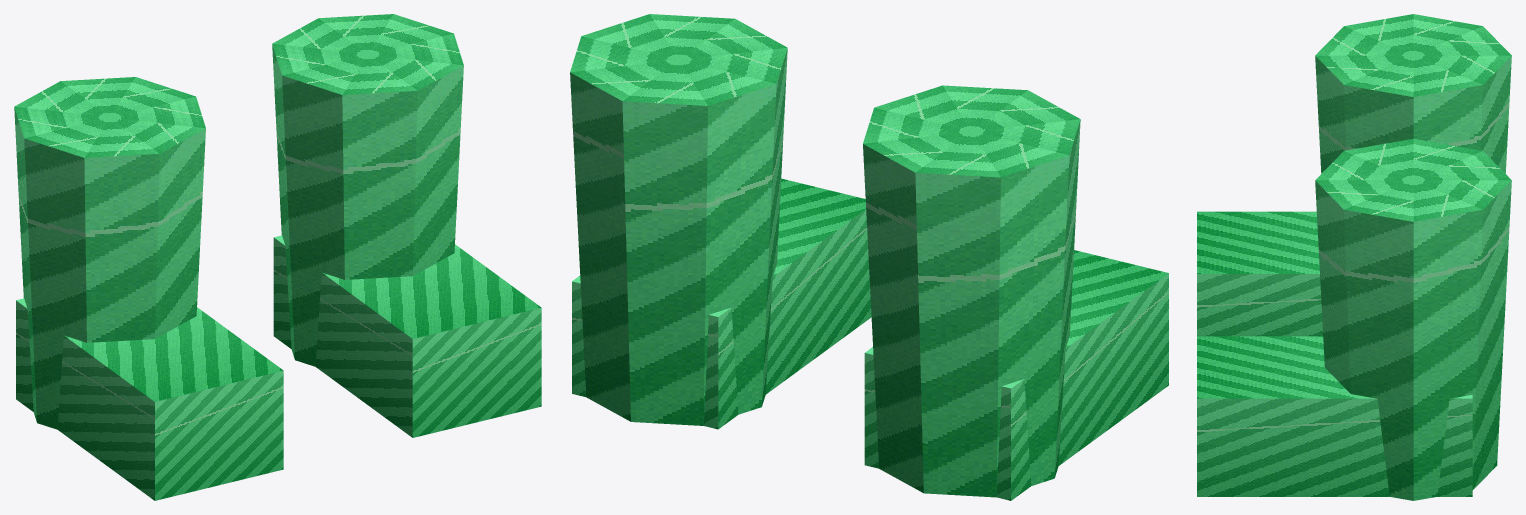
File: botas_de_esmeralda.glb
3 renders of one model, left to right at view 1: azimuth 30°, elevation 25°; view 2: azimuth 150°, elevation 25°; view 3: azimuth 270°, elevation 25°, orthographic. The views are drawn at different scales.
Parts seen in each view (by area): view 1: botas_de_esmeralda; view 2: botas_de_esmeralda; view 3: botas_de_esmeralda.
Boxes of the visible parts, x1,y1,x2,y2 form: botas_de_esmeralda: [14, 14, 541, 500]; botas_de_esmeralda: [570, 14, 1168, 500]; botas_de_esmeralda: [1197, 14, 1511, 500].
Size of the model in its own units: 0.5 by 0.32 by 0.32.
Materials: 1 (1 with a texture image).
